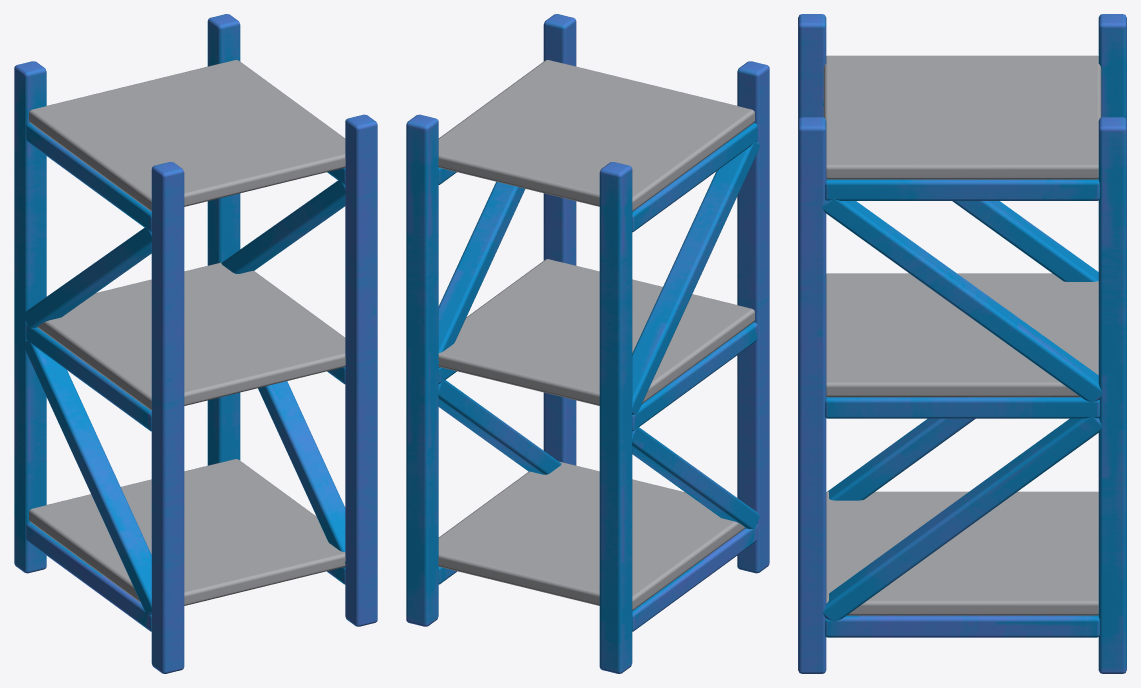
Rendered from shef_2.fbx.
3 renders of one model, left to right at view 1: azimuth 30°, elevation 25°; view 2: azimuth 150°, elevation 25°; view 3: azimuth 270°, elevation 25°, orthographic. The views are drawn at different scales.
Parts seen in each view (by area): view 1: shelf_2; view 2: shelf_2; view 3: shelf_2.
Part boxes in pixels (x1,y1,x2,y2): shelf_2: (14, 14, 377, 673); shelf_2: (406, 14, 769, 673); shelf_2: (798, 14, 1126, 673).
Bounding box in the file's own units: 123 × 272 × 148.
